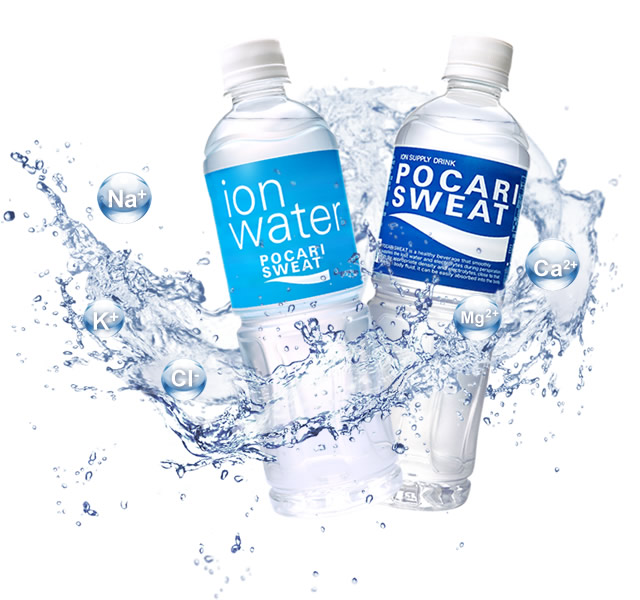POCARI SWEAT: (355, 35, 537, 513)
